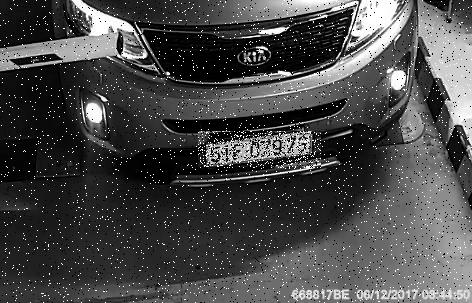License-plate: (199, 133, 322, 170)
